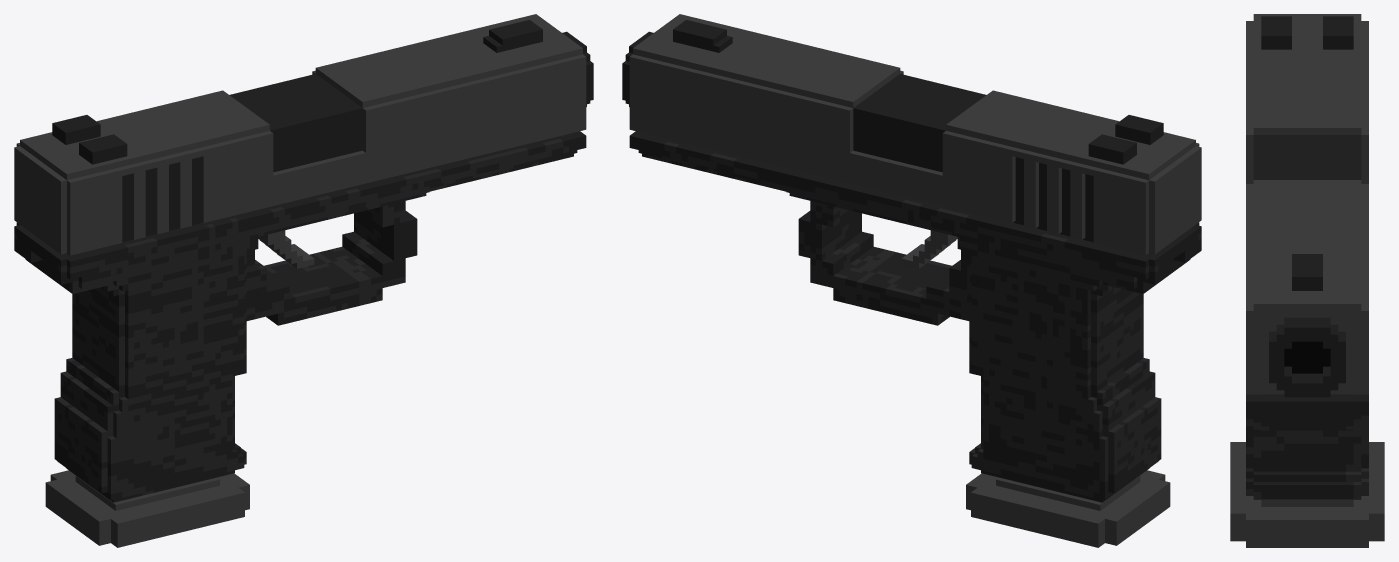
The model's file is game_glock.glb.
The picture shows the model from 3 angles, left to right: view 1: azimuth 30°, elevation 25°; view 2: azimuth 150°, elevation 25°; view 3: azimuth 270°, elevation 25°; orthographic projection. The views are drawn at different scales.
Parts seen in each view (by area): view 1: Node1; view 2: Node1; view 3: Node1.
Part boxes in pixels (x1,y1,x2,y2): Node1: [14, 14, 593, 547]; Node1: [622, 14, 1201, 547]; Node1: [1230, 14, 1384, 547].
Size of the model in its own units: 9.3 by 6.4 by 2.
Materials: 1 (1 with a texture image).
